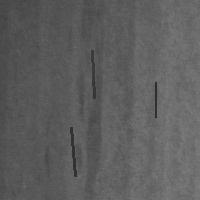inclusion: (70, 26, 108, 197), (38, 140, 56, 182), (69, 125, 77, 178), (90, 48, 96, 100), (153, 80, 157, 119)
